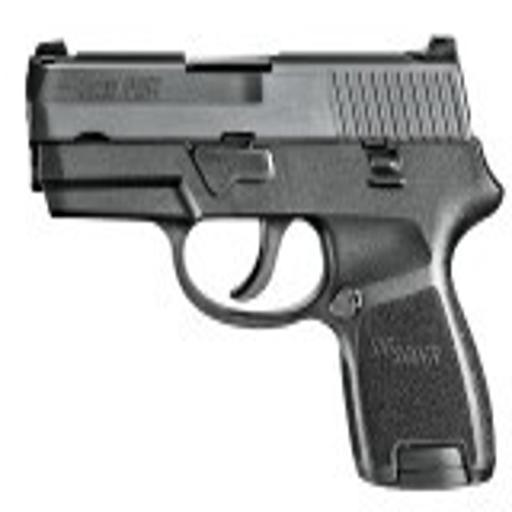Handgun: (18, 37, 501, 498)
